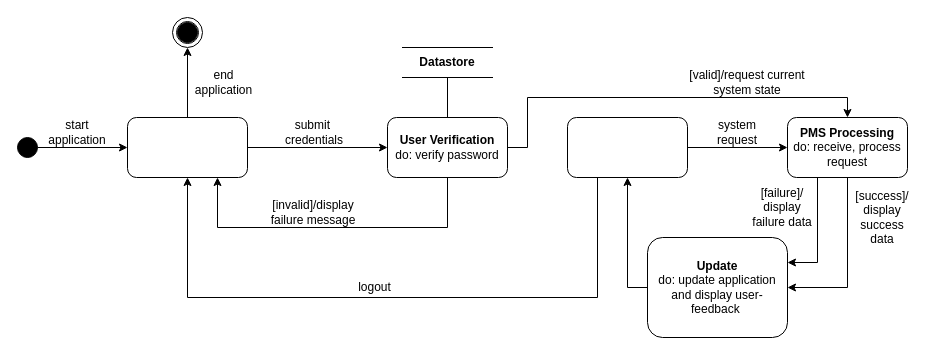
Some shapes in this 935 by 355 pixel diagram are drawn without their labels. Here are the shapes that lost their labels. From the top down, the centre of each, then its label:
At (x=187, y=147): "Login Page do: await username/password entry".
At (x=627, y=147): "Admin Main Control do: await admin request".
